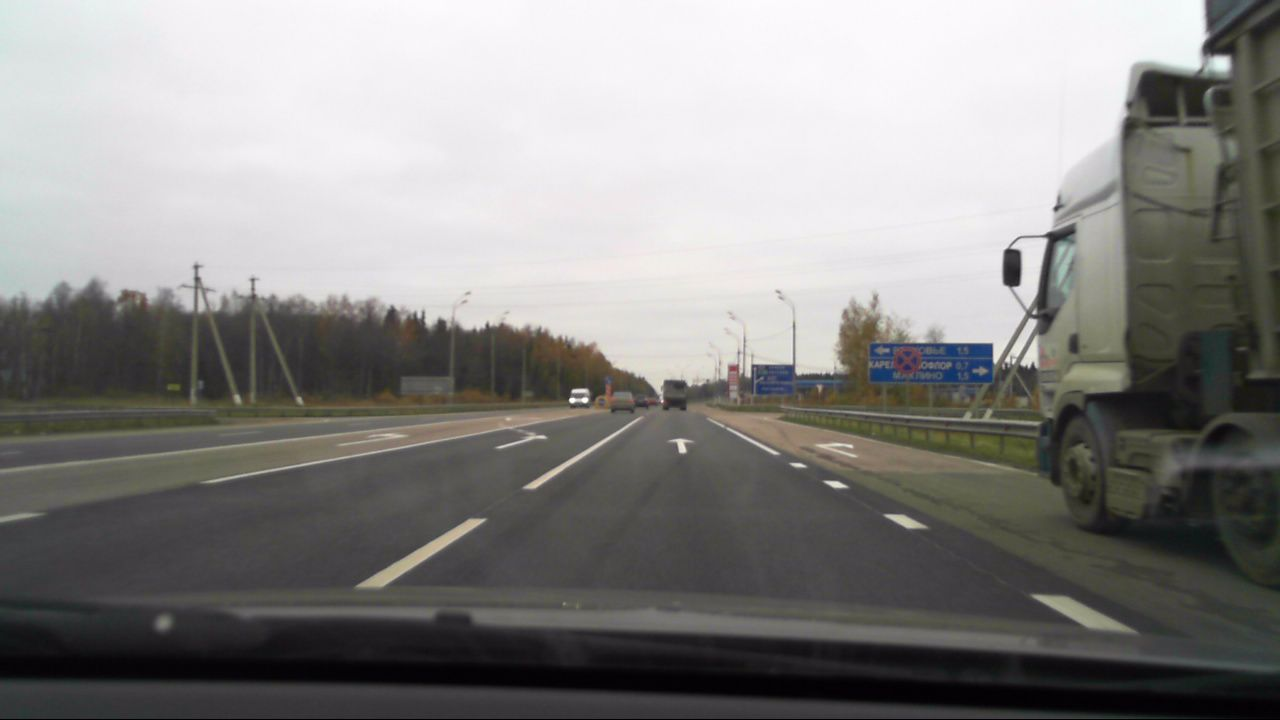No Parking: (892, 346, 924, 376)
